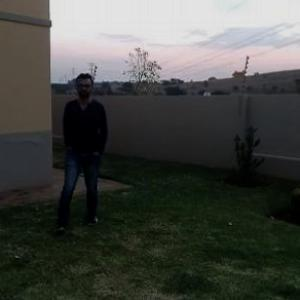follow: (57, 70, 109, 220)
